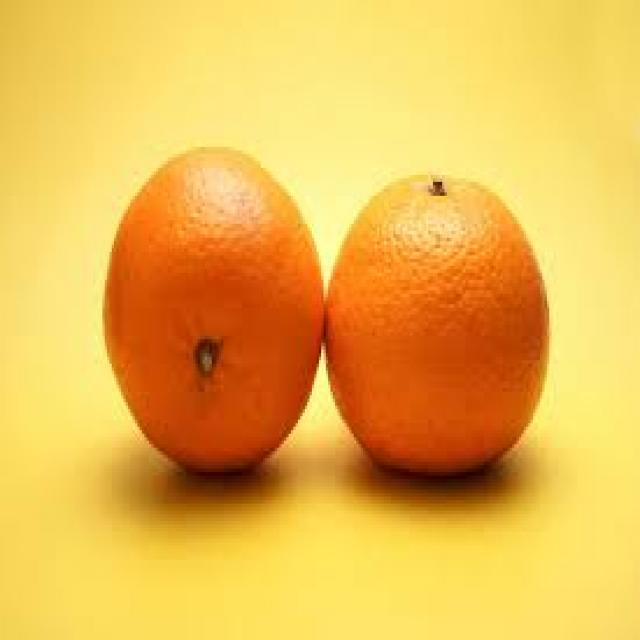orange: (102, 140, 324, 490), (328, 164, 554, 483)
